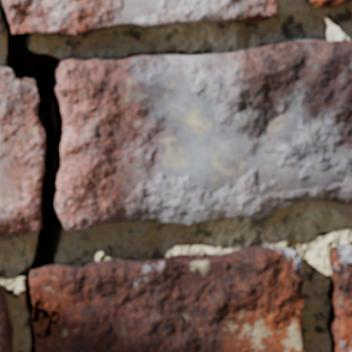brick: (31, 246, 304, 351), (4, 0, 277, 34), (327, 243, 351, 351), (0, 286, 12, 351), (309, 0, 351, 7)
broken_brick: (58, 38, 351, 230), (0, 67, 44, 236)
crack: (0, 0, 65, 351), (173, 52, 229, 58)
